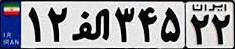character: (68, 3, 113, 47), (44, 2, 71, 46), (112, 2, 137, 46), (158, 3, 183, 47), (135, 2, 159, 46), (25, 2, 45, 47), (189, 12, 211, 47), (210, 12, 232, 47)
